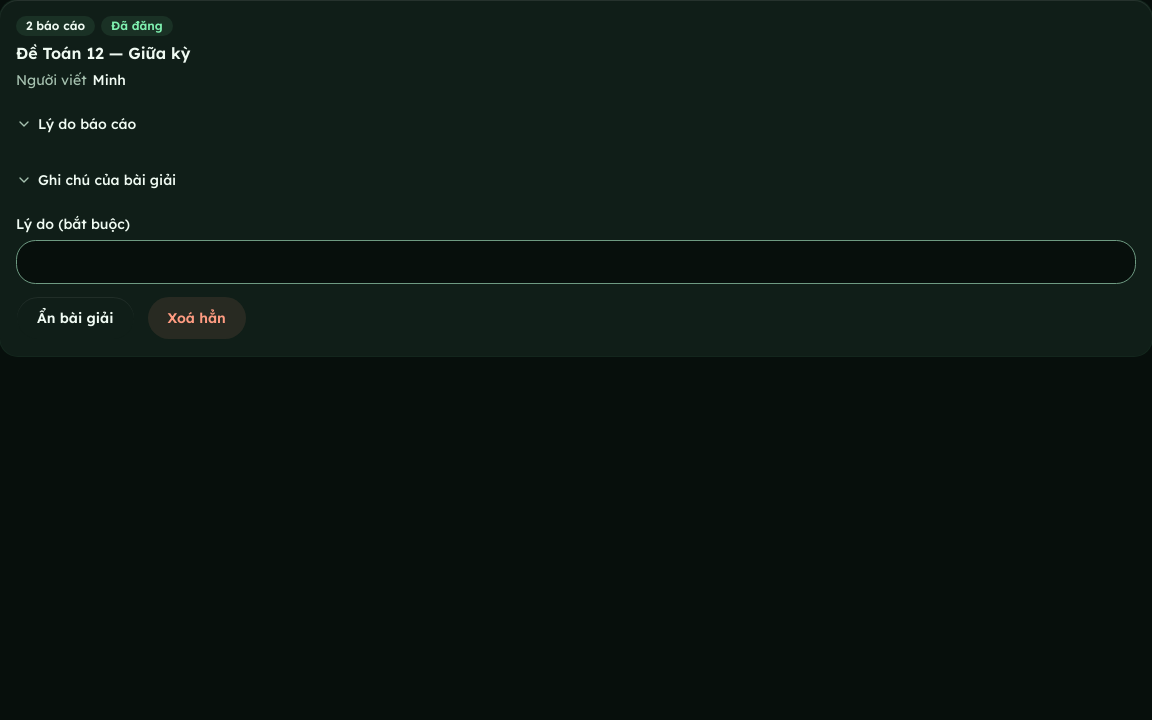
Test: ReportedSolutionRow — Admin notes <details> tests (Reference Contract Value #16, Element 11) › <details> 'Ghi chú của bài giải' có; mở ra: 'Câu 1' trước 'Câu 3', thân in nguyên văn (kể cả dấu markdown)
Click the heading "Ghi chú của bài giải".
click(96, 180)  # box [16,171,176,189]
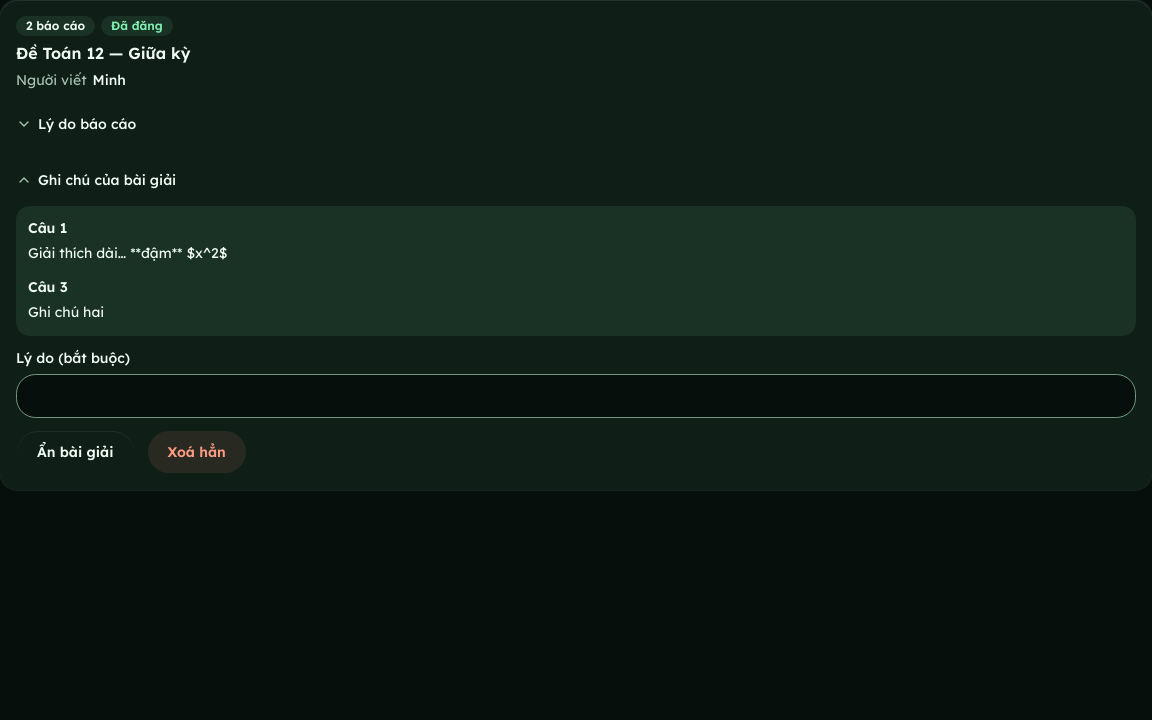
Expected: the text "Giải thích dài… **đậm** $x^2$" is shown, [28,244,228,262]
Expected: the text "Ghi chú hai" is shown, [28,303,104,321]
